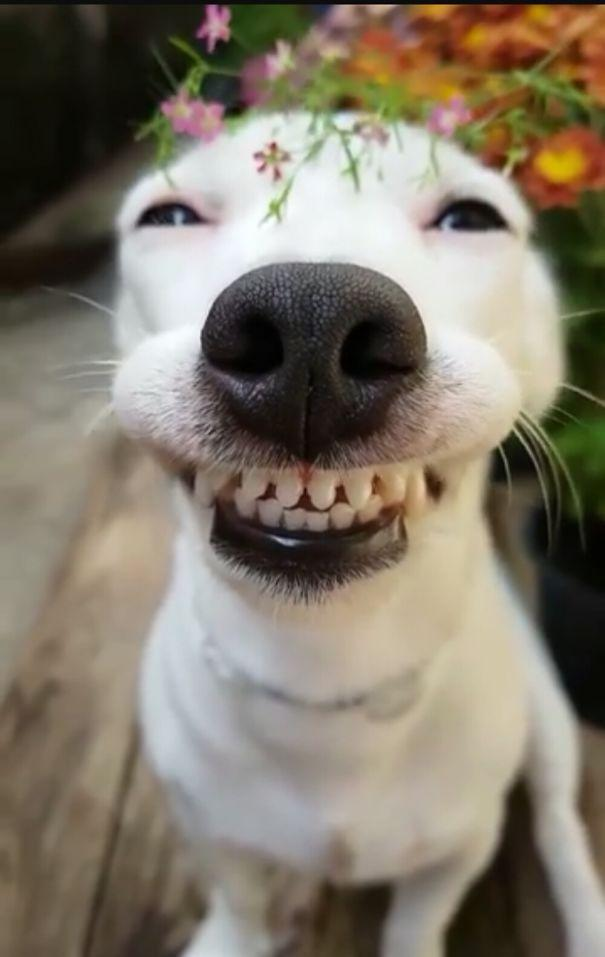adult_dog: (95, 97, 605, 953)
